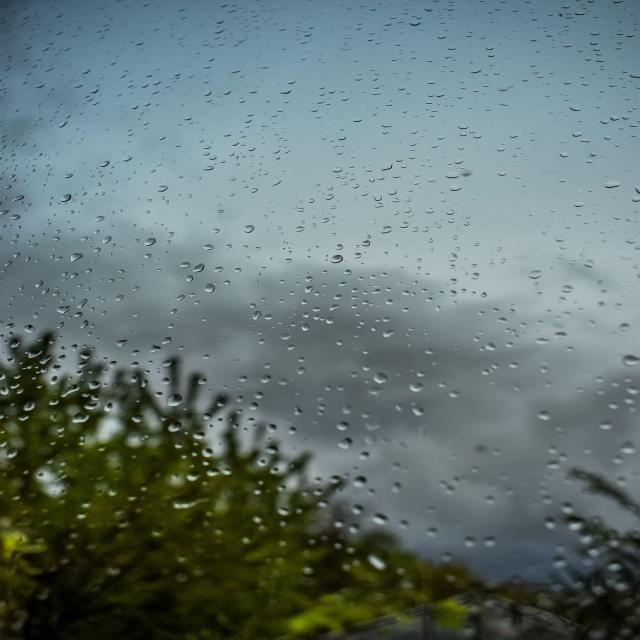raindrop: (159, 388, 191, 408), (615, 348, 640, 373), (331, 436, 361, 453), (61, 379, 82, 402), (80, 376, 108, 393), (595, 176, 624, 192), (369, 510, 392, 530), (153, 334, 180, 351), (374, 328, 399, 346), (70, 345, 95, 362), (143, 346, 167, 363), (52, 301, 76, 318), (243, 384, 267, 400), (71, 305, 97, 319), (525, 268, 545, 286), (374, 221, 392, 241), (165, 417, 185, 434), (350, 474, 370, 491), (440, 170, 468, 182), (70, 408, 91, 424), (23, 346, 48, 359), (198, 241, 220, 255), (374, 162, 402, 173), (2, 445, 24, 459), (367, 555, 387, 570), (368, 189, 388, 204), (20, 398, 41, 412), (556, 148, 572, 166), (200, 444, 218, 460), (482, 338, 500, 354), (261, 442, 281, 456), (208, 262, 224, 279), (240, 397, 258, 412), (128, 412, 146, 427), (185, 468, 204, 482), (264, 422, 283, 436), (79, 401, 101, 413), (21, 318, 36, 335), (74, 318, 92, 332), (257, 372, 275, 386), (199, 162, 218, 175), (112, 335, 130, 348), (326, 300, 342, 314), (156, 183, 173, 196), (198, 372, 216, 384), (208, 26, 232, 35), (204, 466, 222, 478), (558, 282, 576, 294), (300, 283, 314, 298), (190, 431, 209, 442), (322, 192, 338, 205), (11, 192, 27, 205), (112, 292, 128, 305), (77, 296, 94, 308), (52, 352, 69, 364), (197, 412, 214, 424), (72, 360, 92, 370), (551, 331, 571, 341), (93, 158, 111, 169), (446, 182, 464, 193), (274, 331, 292, 342), (478, 288, 492, 302), (305, 271, 318, 286), (104, 402, 119, 415), (178, 258, 194, 270), (47, 396, 63, 408), (161, 357, 177, 369), (158, 374, 174, 386), (382, 296, 398, 308), (9, 339, 26, 350), (325, 314, 338, 328), (292, 225, 312, 234), (166, 306, 184, 316), (397, 286, 412, 298), (424, 294, 439, 306), (444, 252, 459, 264), (469, 270, 484, 282), (566, 101, 582, 112), (328, 292, 347, 301), (441, 208, 458, 218), (373, 372, 387, 384), (200, 88, 214, 100), (30, 278, 44, 290), (628, 70, 640, 84), (85, 86, 103, 95), (8, 214, 28, 222), (54, 120, 70, 130), (172, 292, 188, 302), (50, 363, 66, 373), (338, 268, 354, 278), (38, 354, 51, 366), (0, 385, 12, 398), (495, 168, 508, 180), (223, 276, 234, 290), (50, 374, 61, 388), (398, 219, 412, 230), (121, 155, 136, 165), (598, 118, 613, 128), (162, 230, 178, 239), (138, 378, 150, 390), (446, 287, 459, 298), (409, 382, 423, 392), (26, 240, 40, 250), (107, 359, 121, 369), (422, 206, 436, 216), (206, 227, 223, 235), (210, 208, 227, 216), (371, 287, 386, 296), (333, 242, 344, 254), (39, 364, 49, 377), (335, 278, 348, 288), (448, 278, 461, 288), (76, 67, 92, 75), (42, 66, 58, 74), (248, 188, 264, 196), (140, 252, 156, 260), (280, 257, 296, 265), (570, 130, 586, 138), (48, 235, 62, 244), (286, 78, 300, 87), (128, 102, 142, 111), (330, 166, 344, 175), (506, 131, 520, 140), (337, 421, 349, 431), (70, 270, 82, 280), (82, 264, 94, 274), (246, 88, 261, 96), (128, 360, 140, 370), (455, 122, 470, 130), (278, 88, 295, 95), (331, 255, 344, 264), (70, 252, 83, 261), (300, 311, 313, 320), (493, 146, 506, 155), (310, 306, 324, 314), (1, 260, 15, 268), (60, 112, 74, 120), (220, 132, 234, 140), (228, 140, 242, 148), (292, 206, 306, 214), (318, 216, 330, 225), (334, 338, 346, 347), (608, 114, 620, 123), (185, 290, 198, 298), (144, 238, 157, 246), (235, 264, 248, 272), (12, 232, 25, 240), (207, 153, 220, 161), (62, 172, 75, 180), (0, 207, 10, 217), (40, 286, 50, 296), (130, 374, 140, 384), (230, 68, 244, 75), (150, 89, 164, 96), (193, 264, 205, 272), (10, 250, 22, 258), (22, 44, 34, 52), (138, 82, 150, 90), (180, 115, 196, 121), (2, 183, 14, 191), (128, 348, 140, 356), (360, 240, 372, 248), (347, 286, 359, 294), (152, 78, 162, 87), (205, 284, 216, 292), (61, 194, 72, 202), (144, 72, 155, 80), (66, 227, 78, 234), (22, 255, 34, 262), (202, 143, 212, 151), (222, 88, 232, 96), (360, 298, 370, 306), (348, 293, 358, 301), (7, 240, 20, 246), (252, 311, 261, 319), (134, 41, 146, 47), (156, 136, 167, 142), (245, 225, 254, 232), (103, 236, 112, 243), (301, 324, 310, 331), (351, 301, 358, 310), (621, 114, 631, 120), (95, 215, 104, 221), (265, 314, 274, 320), (185, 275, 193, 281), (42, 46, 50, 52), (202, 150, 210, 156)
